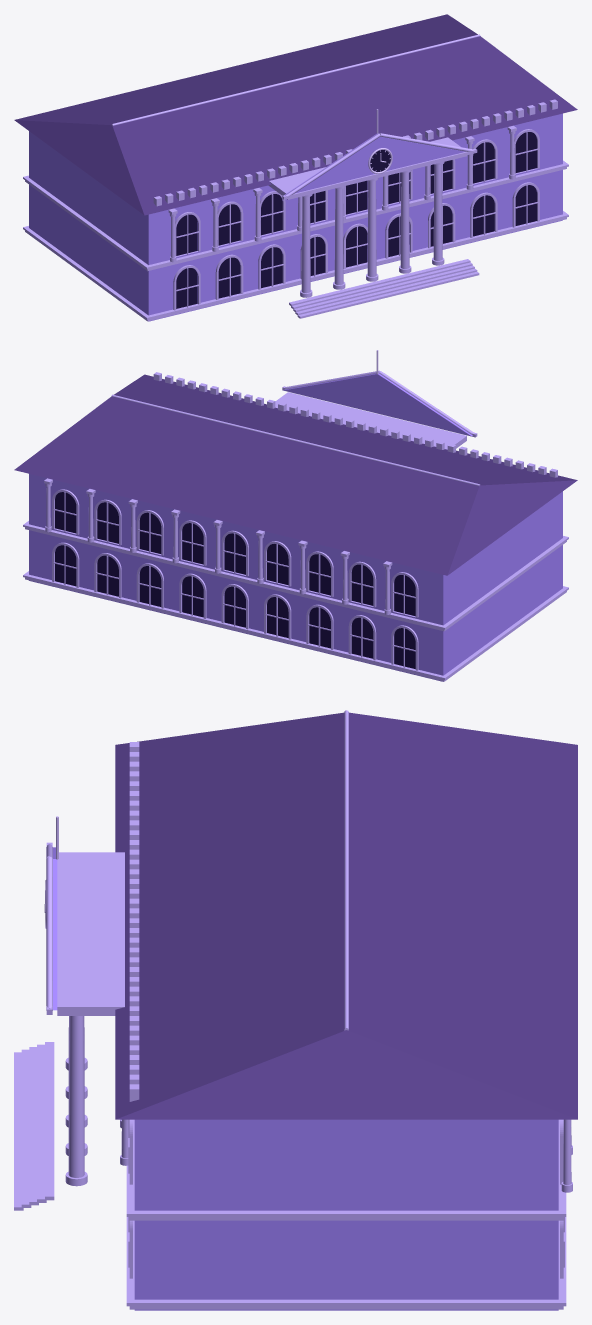
File: saintdenis_violet_light.glb
3 renders of one model, top to bottom at view 1: azimuth 30°, elevation 25°; view 2: azimuth 150°, elevation 25°; view 3: azimuth 270°, elevation 25°, orthographic. The views are drawn at different scales.
Parts seen in each view (by area): view 1: Violet slate, Violet stone, Lavender carved stone, Recessed glazing; view 2: Violet slate, Violet stone, Lavender carved stone, Recessed glazing; view 3: Violet slate, Violet stone, Lavender carved stone.
Part boxes in pixels (x1=…): Violet slate: x1=14, y1=14, x2=577, y2=215; Violet stone: x1=29, y1=113, x2=562, y2=321; Lavender carved stone: x1=23, y1=34, x2=568, y2=321; Recessed glazing: x1=176, y1=132, x2=536, y2=308; Violet slate: x1=14, y1=374, x2=577, y2=575; Violet stone: x1=29, y1=373, x2=562, y2=681; Lavender carved stone: x1=23, y1=370, x2=568, y2=681; Recessed glazing: x1=55, y1=492, x2=415, y2=668; Violet slate: x1=115, y1=712, x2=577, y2=1119; Violet stone: x1=53, y1=847, x2=558, y2=1310; Lavender carved stone: x1=14, y1=710, x2=572, y2=1309.
Size of the model in its own units: 45.75 by 18 by 29.09.
